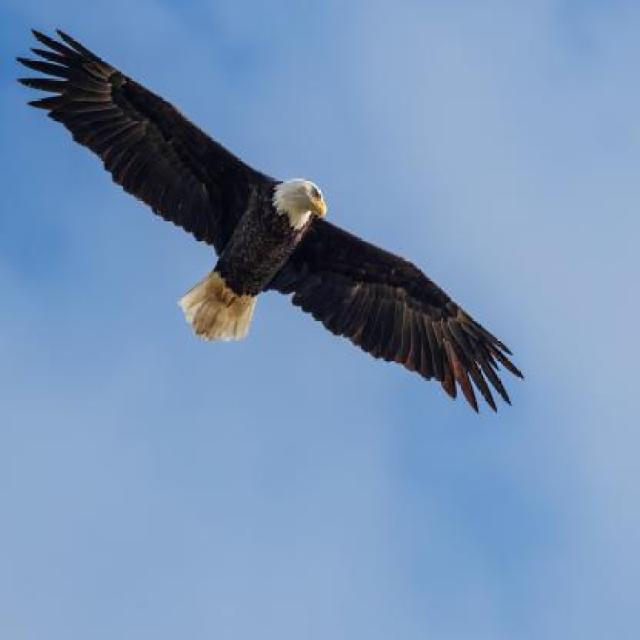bird: (18, 26, 527, 417)
